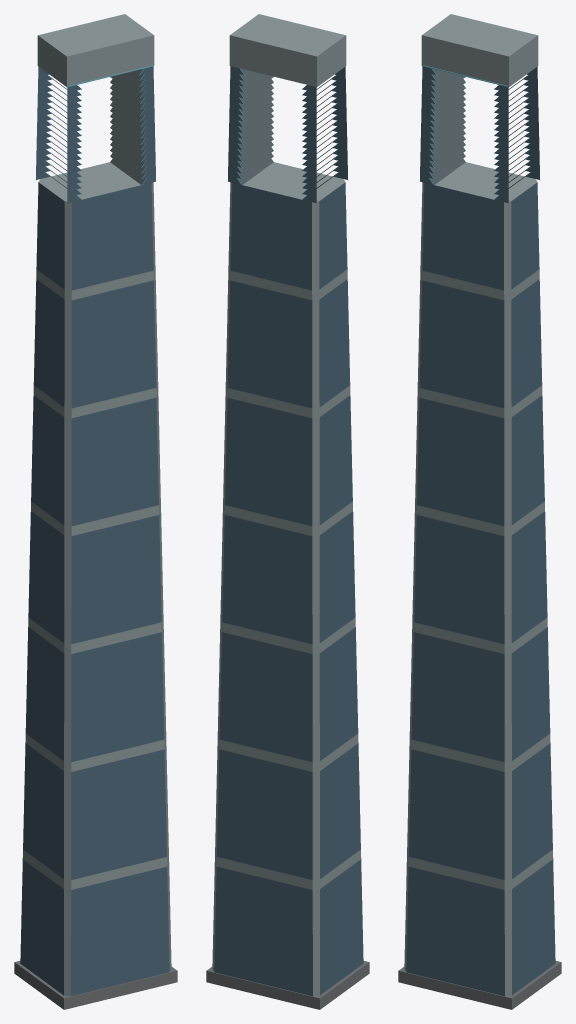
The model's file is swfc_near.glb.
The picture shows the model from 3 angles, left to right: view 1: azimuth 30°, elevation 25°; view 2: azimuth 150°, elevation 25°; view 3: azimuth 330°, elevation 25°; orthographic projection.
Parts seen in each view (by area): view 1: Glazing, Silver, Steel, Plinth, NightCool; view 2: Glazing, Silver, Steel, Plinth, NightCool; view 3: Glazing, Silver, Steel, Plinth, NightCool.
Boxes of the visible parts, x1,y1,x2,y2 form: Glazing: [20, 66, 169, 996]; Silver: [22, 14, 171, 996]; Steel: [46, 69, 146, 188]; Plinth: [14, 961, 177, 1009]; NightCool: [45, 65, 152, 199]; Glazing: [214, 66, 363, 996]; Silver: [212, 14, 361, 996]; Steel: [237, 68, 337, 188]; Plinth: [206, 961, 369, 1009]; NightCool: [237, 68, 338, 199]; Glazing: [406, 66, 555, 996]; Silver: [404, 14, 553, 996]; Steel: [429, 69, 529, 188]; Plinth: [398, 961, 561, 1009]; NightCool: [423, 65, 530, 199].
Bounding box in the file's own units: 62 × 492 × 47.
